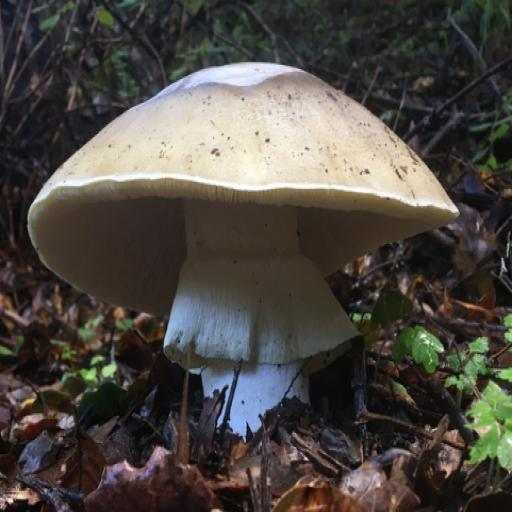mushroom: (5, 0, 472, 448)
